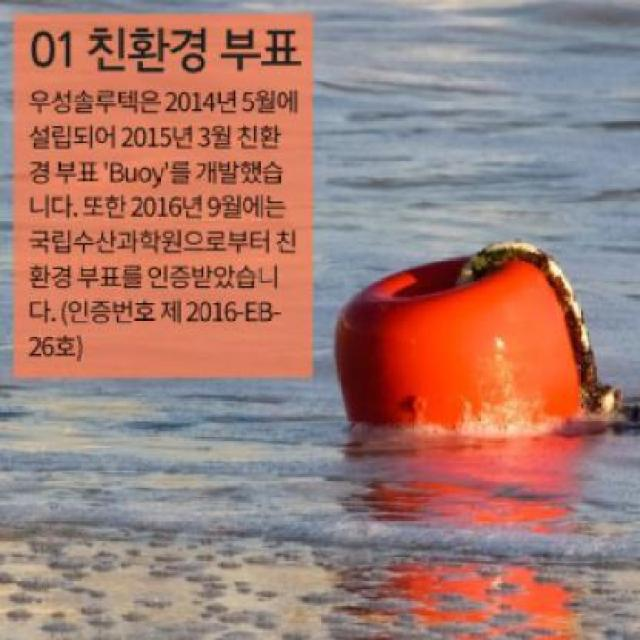a: (329, 229, 640, 450)
